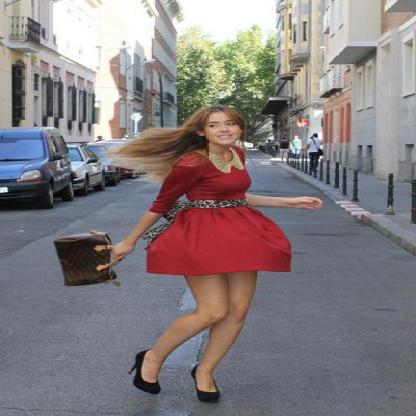bag: (53, 238, 117, 286)
dress: (145, 150, 290, 284)
shoe: (129, 350, 219, 403)
